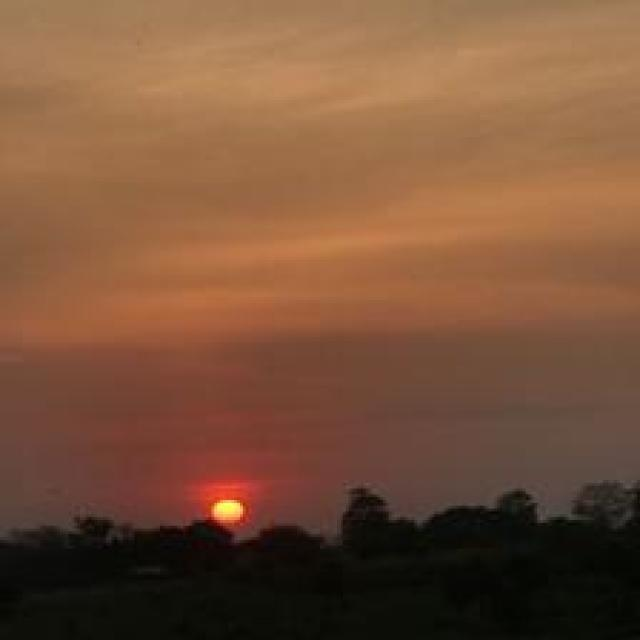sun: (211, 499, 245, 525)
